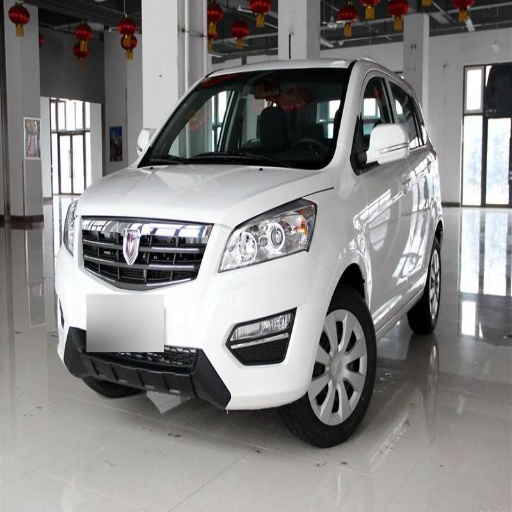front_bumper: (57, 214, 338, 410)
front_glass: (138, 69, 351, 167)
front_left_door: (354, 70, 412, 317)
